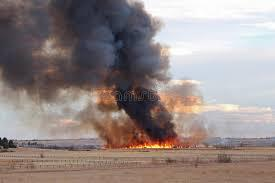smoke: (1, 1, 217, 140)
